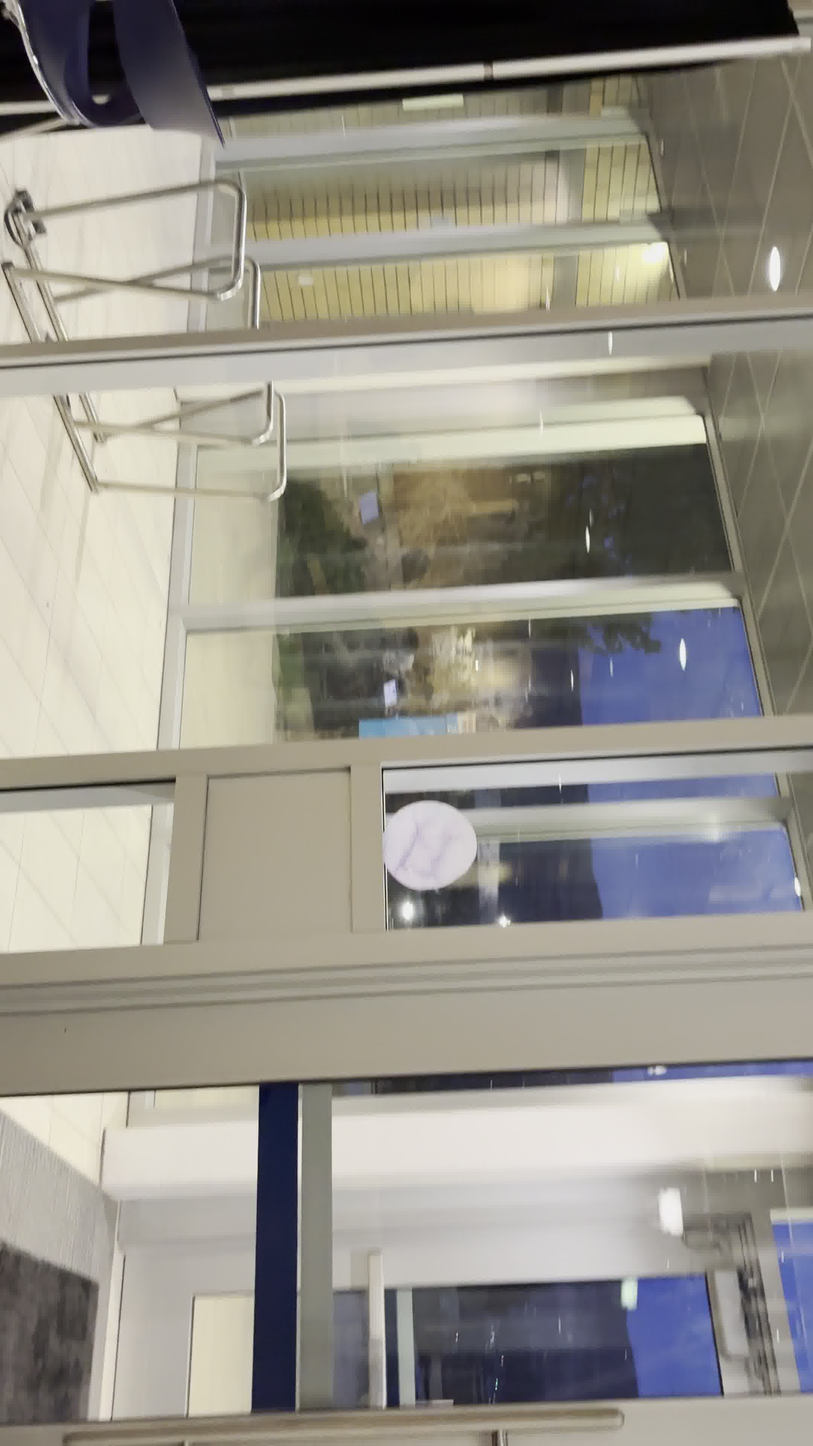Target: (381, 799, 479, 892)
